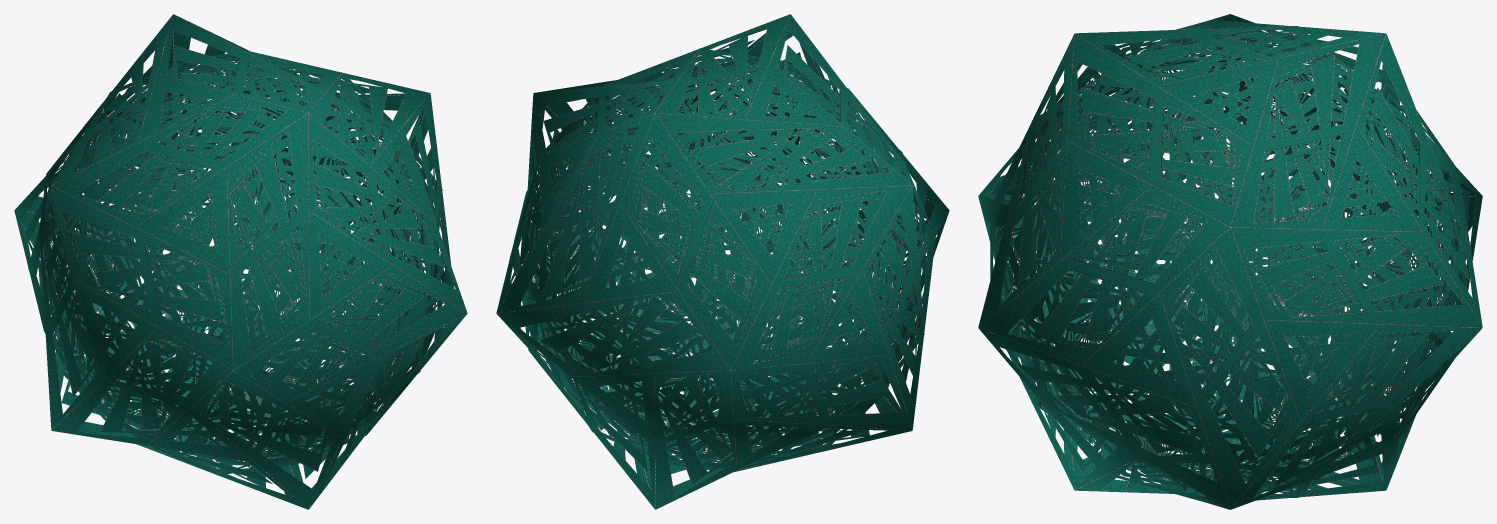
File: MedialPentagonalHexecontahedron16.gltf
3 renders of one model, left to right at view 1: azimuth 30°, elevation 25°; view 2: azimuth 150°, elevation 25°; view 3: azimuth 270°, elevation 25°, orthographic. The views are drawn at different scales.
Parts seen in each view (by area): view 1: MedialPentagonalHexecontahedron16; view 2: MedialPentagonalHexecontahedron16; view 3: MedialPentagonalHexecontahedron16.
Boxes of the visible parts, x1=… form: MedialPentagonalHexecontahedron16: x1=14, y1=14, x2=467, y2=509; MedialPentagonalHexecontahedron16: x1=496, y1=14, x2=949, y2=509; MedialPentagonalHexecontahedron16: x1=978, y1=14, x2=1482, y2=509.
Size of the model in its own units: 2.46 by 2.46 by 2.46.
1 material, 1 textured.
